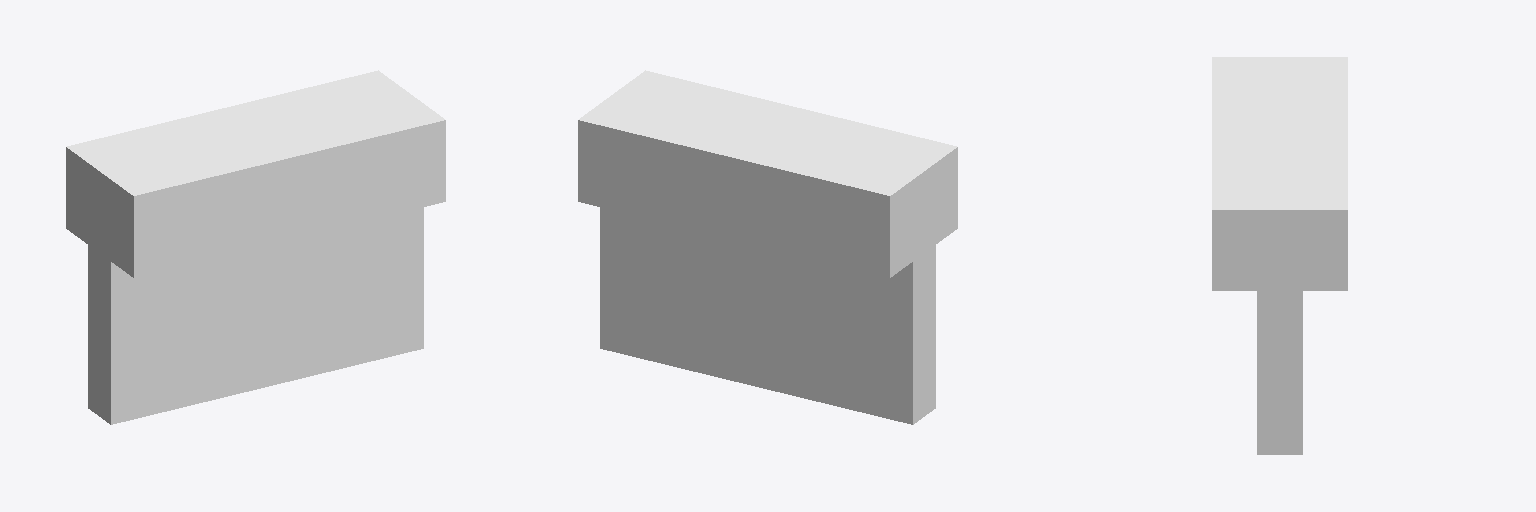
Rendered from barierkaWyscigowa.obj.
3 views of the same model, side by side, from view 1: azimuth 30°, elevation 25°; view 2: azimuth 150°, elevation 25°; view 3: azimuth 270°, elevation 25° (orthographic).
Parts seen in each view (by area): view 1: object 1; view 2: object 1; view 3: object 1.
Boxes of the visible parts, x1,y1,x2,y2 form: object 1: [66, 70, 445, 424]; object 1: [578, 70, 957, 424]; object 1: [1212, 57, 1347, 454].
Bounding box in the file's own units: 0.8 × 0.6 × 0.3.